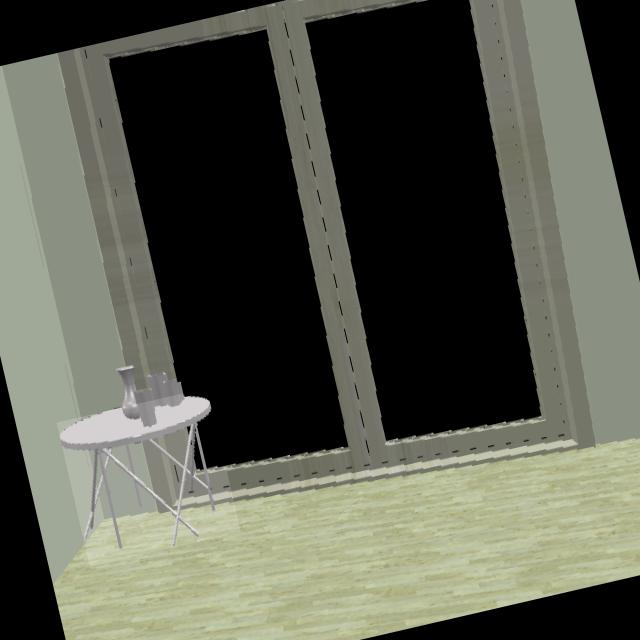table: (59, 395, 216, 548)
